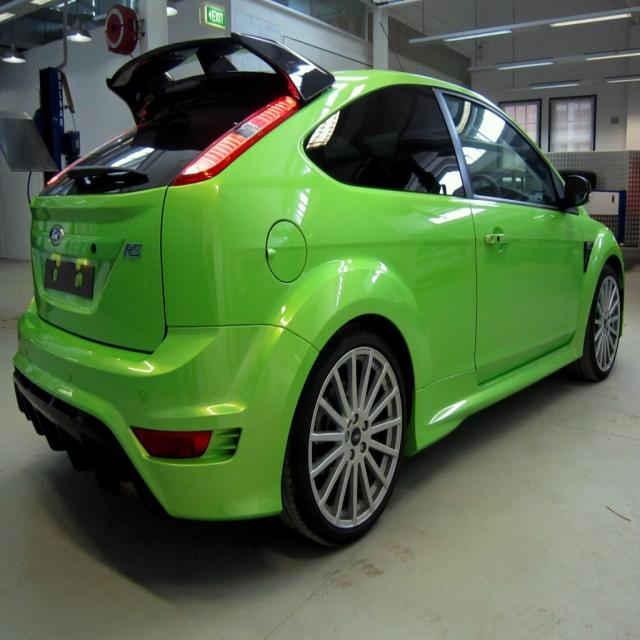car: (15, 40, 635, 548)
